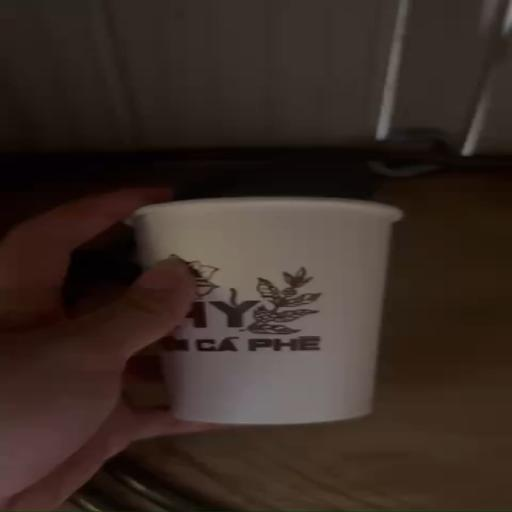Ly_giay: (132, 197, 401, 424)
